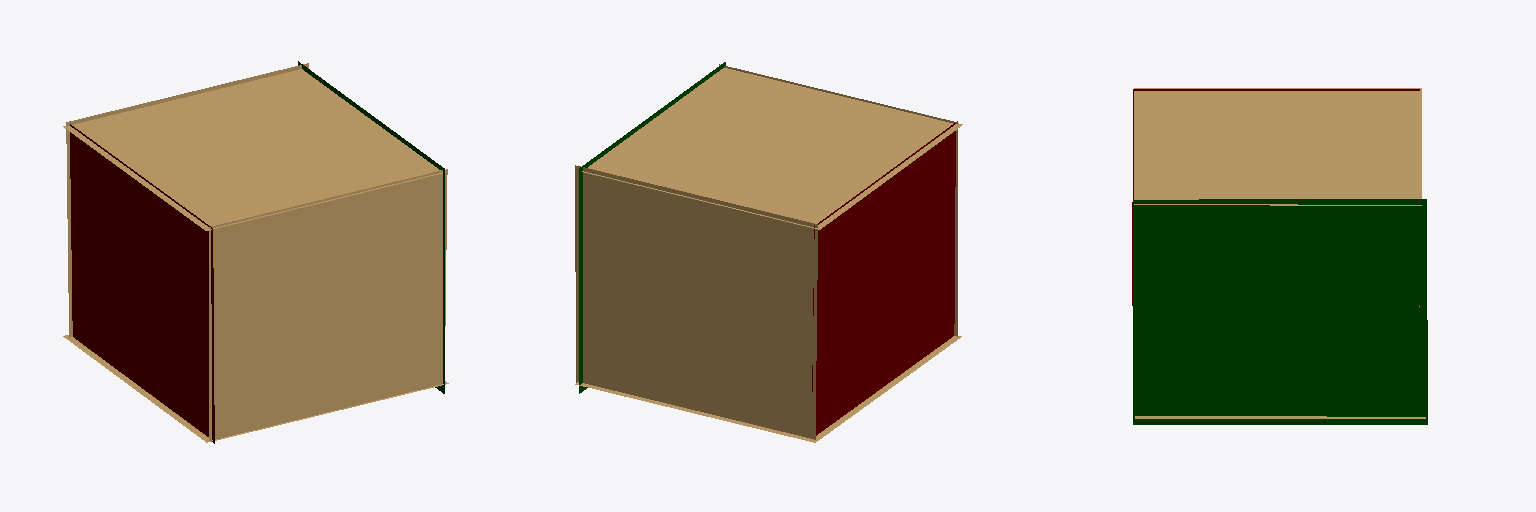
Rendered from map.obj.
3 renders of one model, left to right at view 1: azimuth 30°, elevation 25°; view 2: azimuth 150°, elevation 25°; view 3: azimuth 270°, elevation 25°, orthographic.
Visible parts, largest first — view 1: back_wall, ceiling, left_wall, front_wall, floor, right_wall; view 2: front_wall, ceiling, left_wall, floor, right_wall, back_wall; view 3: right_wall, ceiling, left_wall, floor.
Part boxes in pixels (left/top/right/bottom): back_wall: left=209, top=169, right=447, bottom=440; ceiling: left=63, top=69, right=445, bottom=230; left_wall: left=70, top=124, right=214, bottom=443; front_wall: left=66, top=63, right=308, bottom=337; floor: left=63, top=335, right=448, bottom=442; right_wall: left=298, top=61, right=444, bottom=393; front_wall: left=575, top=165, right=817, bottom=439; ceiling: left=582, top=68, right=962, bottom=229; left_wall: left=812, top=121, right=957, bottom=435; floor: left=575, top=336, right=961, bottom=442; right_wall: left=579, top=62, right=725, bottom=393; back_wall: left=719, top=64, right=957, bottom=336; right_wall: left=1133, top=199, right=1427, bottom=424; ceiling: left=1134, top=88, right=1421, bottom=205; left_wall: left=1132, top=89, right=1419, bottom=305; floor: left=1135, top=416, right=1425, bottom=418.
Bounding box in the file's own units: 5.37 × 4.73 × 5.59.